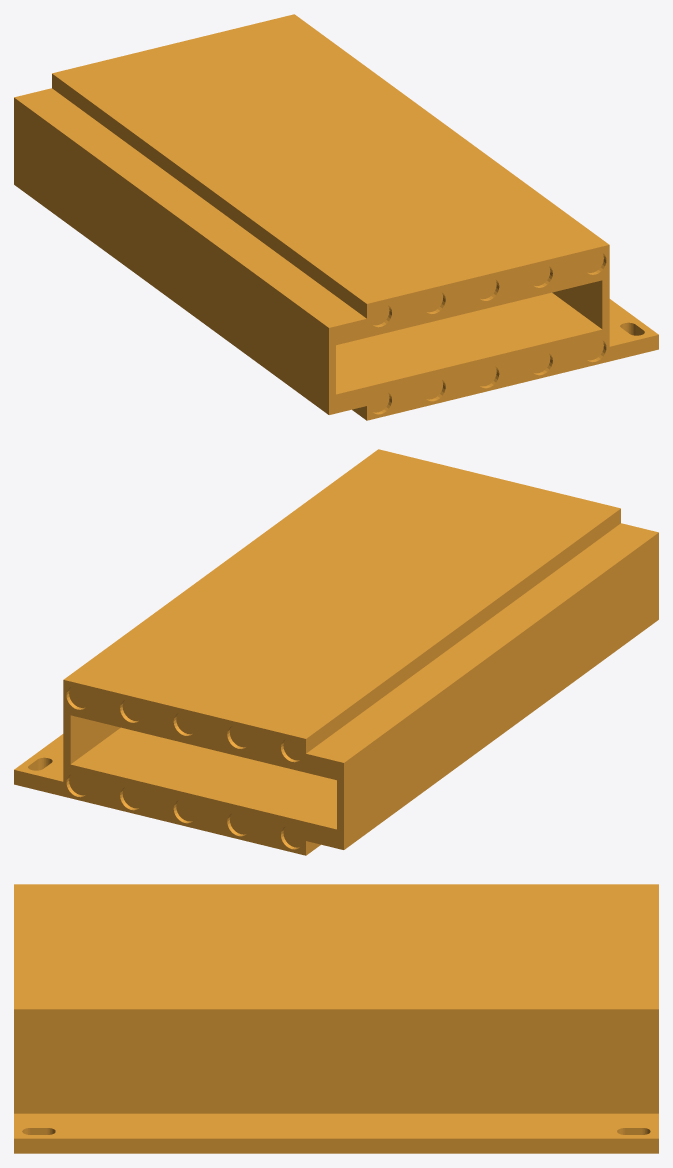
File: window-middle-layer.glb
3 views of the same model, one above another, from view 1: azimuth 30°, elevation 25°; view 2: azimuth 150°, elevation 25°; view 3: azimuth 270°, elevation 25° (orthographic). The views are drawn at different scales.
Visible parts, largest first — view 1: window-middle-layer; view 2: window-middle-layer; view 3: window-middle-layer.
Boxes of the visible parts, bbox=[...] form: window-middle-layer: bbox=[14, 14, 658, 420]; window-middle-layer: bbox=[14, 449, 658, 855]; window-middle-layer: bbox=[14, 884, 658, 1153].
Bounding box in the file's own units: 0.1482 × 0.0501 × 0.2451.
